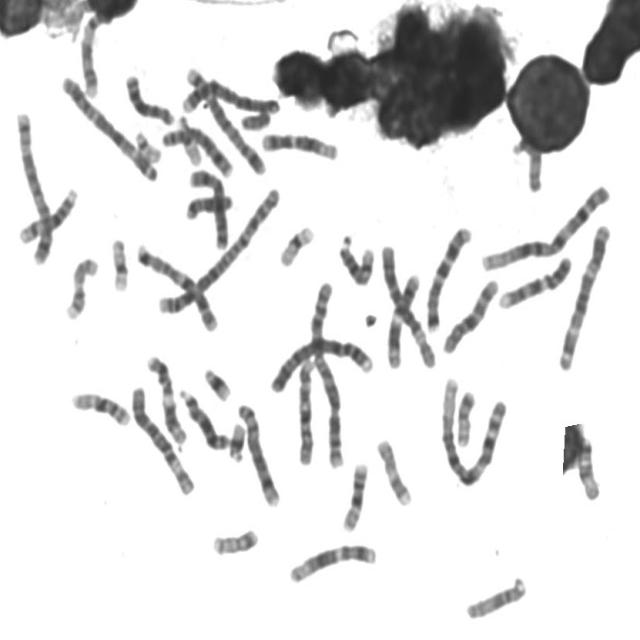A1: (477, 178, 613, 274), (435, 370, 509, 490)
A2: (154, 179, 284, 317), (306, 276, 347, 470)
A3: (55, 68, 161, 184), (554, 218, 614, 371)
B4: (265, 332, 376, 395), (178, 72, 283, 117)
B5: (181, 60, 270, 176), (11, 105, 55, 267)
C10: (438, 272, 502, 356), (293, 350, 317, 468)
C11: (142, 348, 188, 446), (383, 268, 422, 370)
C12: (284, 537, 378, 585), (256, 125, 341, 162)
C6: (126, 378, 197, 498), (376, 238, 438, 370)
C7: (131, 237, 220, 334), (422, 219, 474, 333)
C8: (232, 396, 282, 510), (156, 121, 235, 179)
C9: (494, 250, 574, 310), (76, 3, 117, 100)
D13: (175, 382, 232, 453), (120, 66, 176, 127)
D14: (15, 181, 80, 247), (334, 228, 377, 288)
D15: (462, 571, 528, 622), (572, 431, 603, 502)
E16: (66, 384, 132, 429), (337, 456, 370, 534)
E17: (372, 432, 414, 508), (61, 251, 100, 321)
E18: (180, 187, 235, 222), (515, 140, 549, 194)
F19: (274, 219, 317, 268), (105, 231, 131, 294)
F20: (208, 521, 260, 557), (453, 384, 477, 449)
G21: (200, 361, 233, 403), (225, 417, 247, 464)
G22: (174, 109, 204, 168), (130, 124, 163, 163)
X: (183, 162, 230, 252)
Y: (236, 104, 272, 132)
